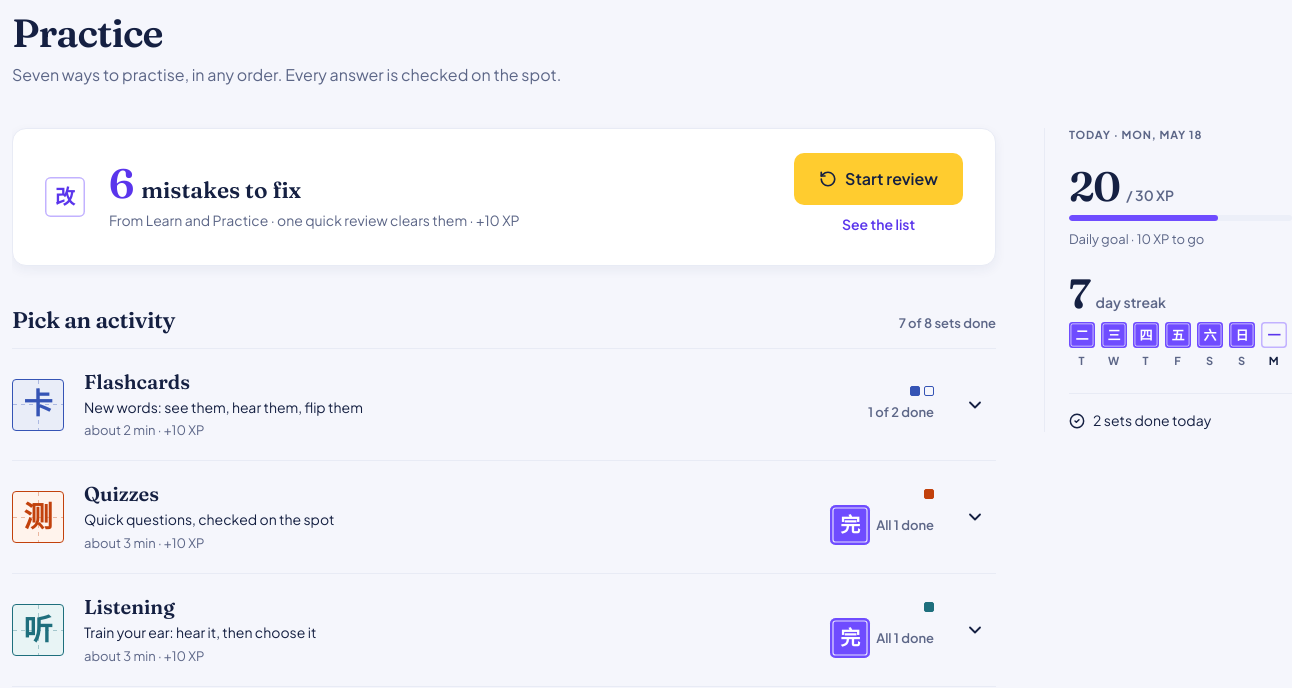
Test: StudentPracticePage › opens on the room: mistakes to fix first, then the seven activities with their sets on request
The width and height of the screenshot is (1292, 688).
Expected: the heading "6 mistakes to fix" is shown, [109,158,301,208]
Expected: the navigation bar named "Practice activities" shows "1 of 2 done", [868,404,934,420]
Click the button with test id "toggle-flashcards" at (975, 404), box [954,384,996,426]
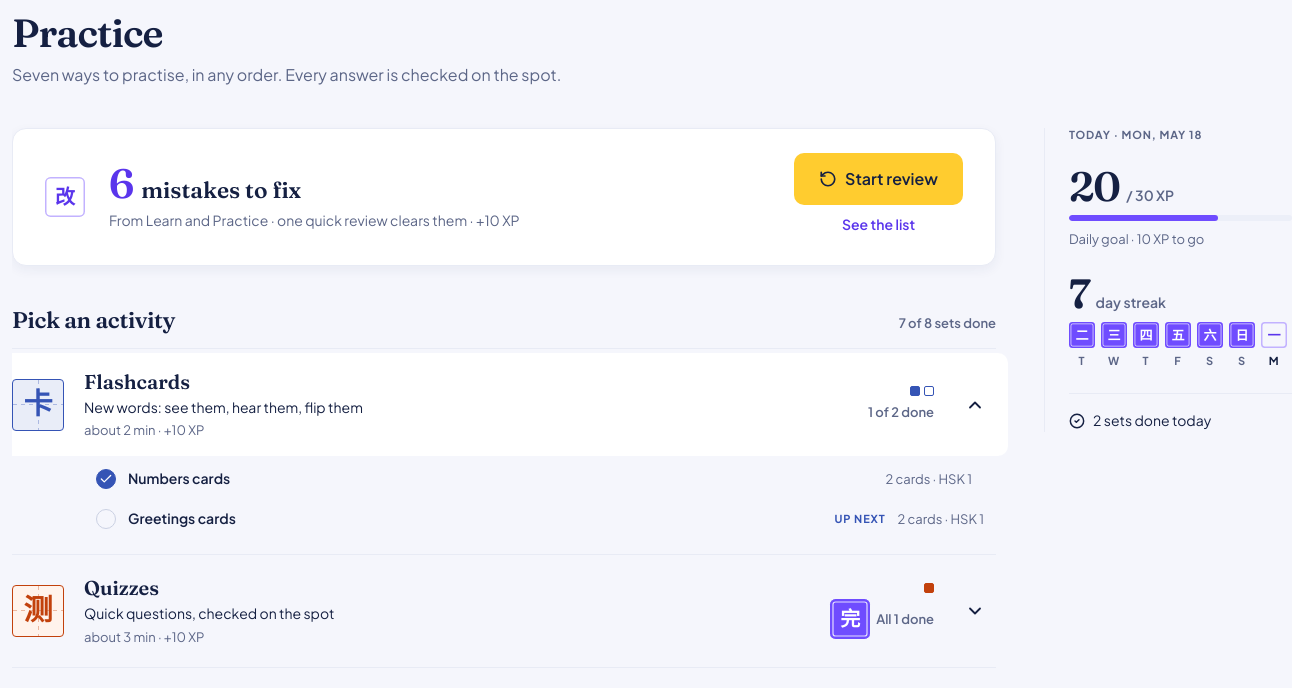
Expected: the element with test id "practice-today" shows "2 sets done today", [1093,412,1211,430]
Result: the button with test id "toggle-flashcards" is expanded at [954,384,996,426]
Result: the link "Greetings cards Up next 2 cards · HSK 1" is shown at [96,509,984,529]
